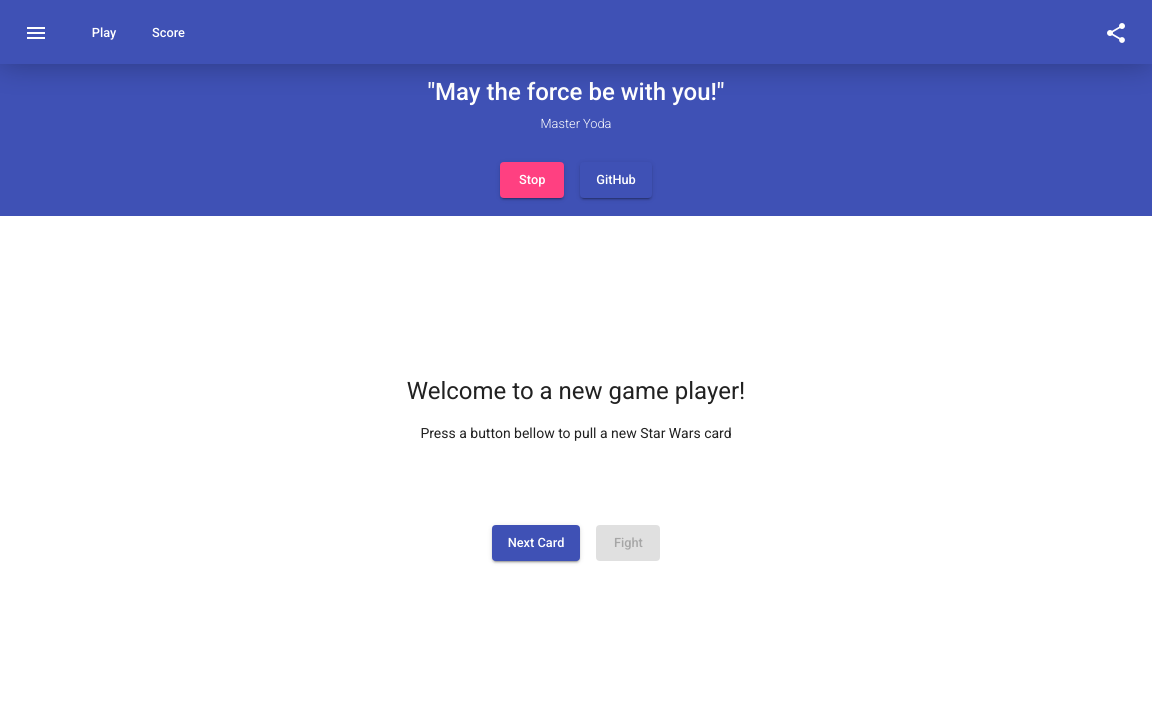
Test: Showing Score › Should show the score window if you press on the score button
What coordinates should you click on to do the following:
click the button "score"
I would click on:
 (169, 33)
Its box is [136, 15, 201, 51].
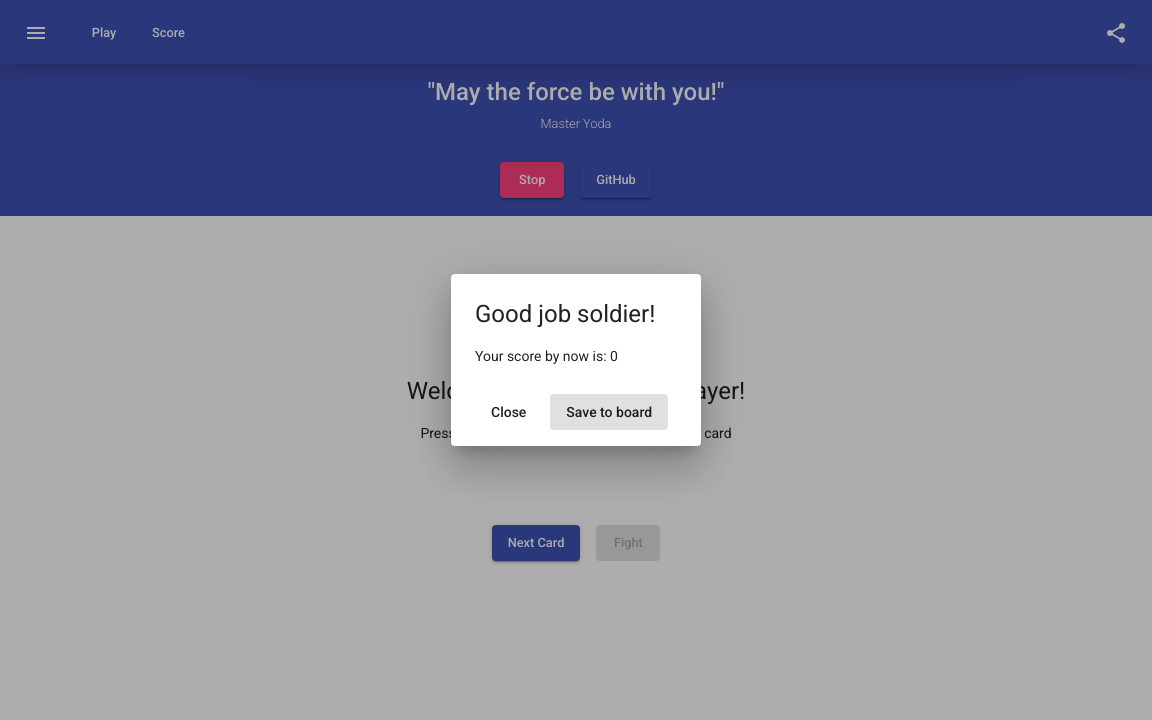
expect the dialog is shown: met, box [451, 274, 701, 446]
